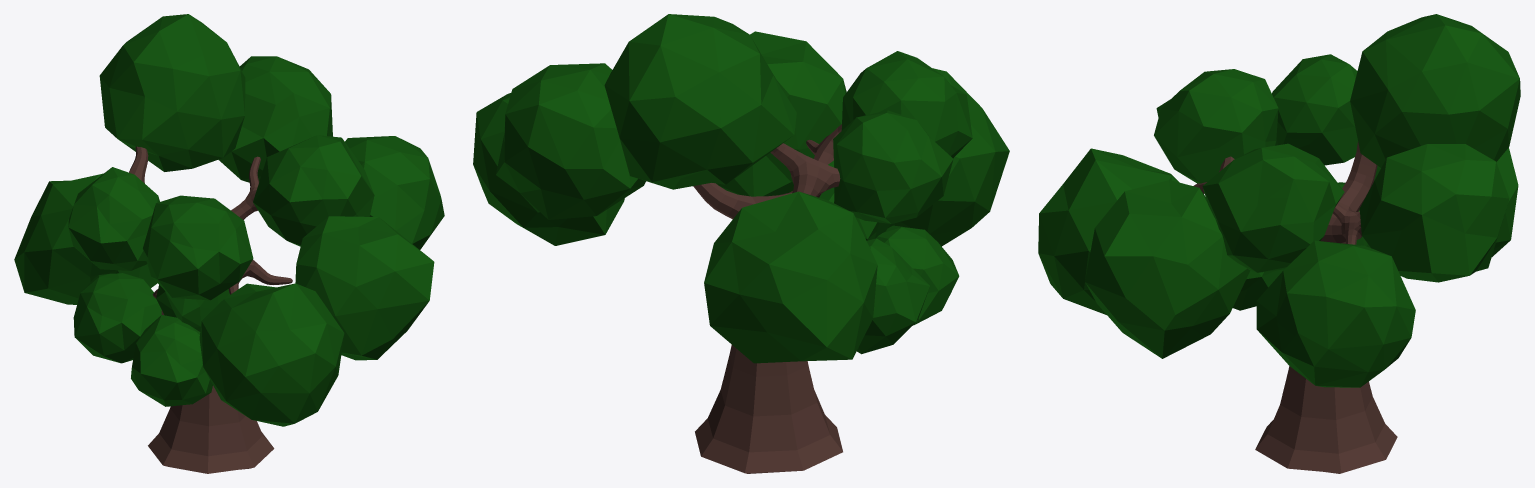
The model's file is Tree B.fbx.
3 views of the same model, side by side, from view 1: azimuth 30°, elevation 25°; view 2: azimuth 150°, elevation 25°; view 3: azimuth 270°, elevation 25° (orthographic). The views are drawn at different scales.
Visible parts, largest first — view 1: Tree B; view 2: Tree B; view 3: Tree B.
Boxes of the visible parts, x1=… form: Tree B: x1=14, y1=14, x2=444, y2=473; Tree B: x1=473, y1=14, x2=1009, y2=473; Tree B: x1=1038, y1=14, x2=1520, y2=473.
Size of the model in its own units: 1073 by 1068 by 1076.
